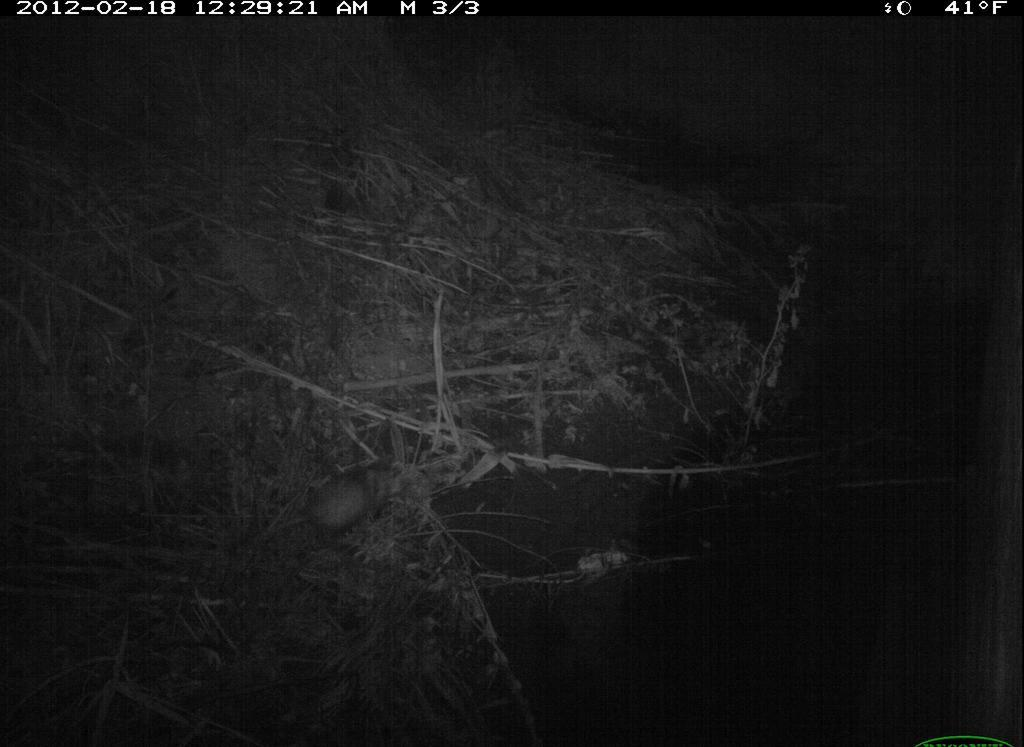opossum: (239, 464, 408, 550)
